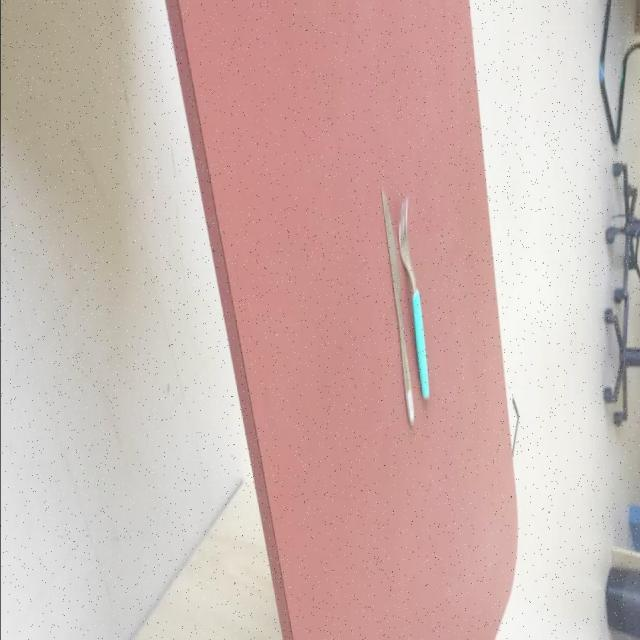Fork: (398, 197, 431, 403)
Knife: (380, 187, 415, 430)
